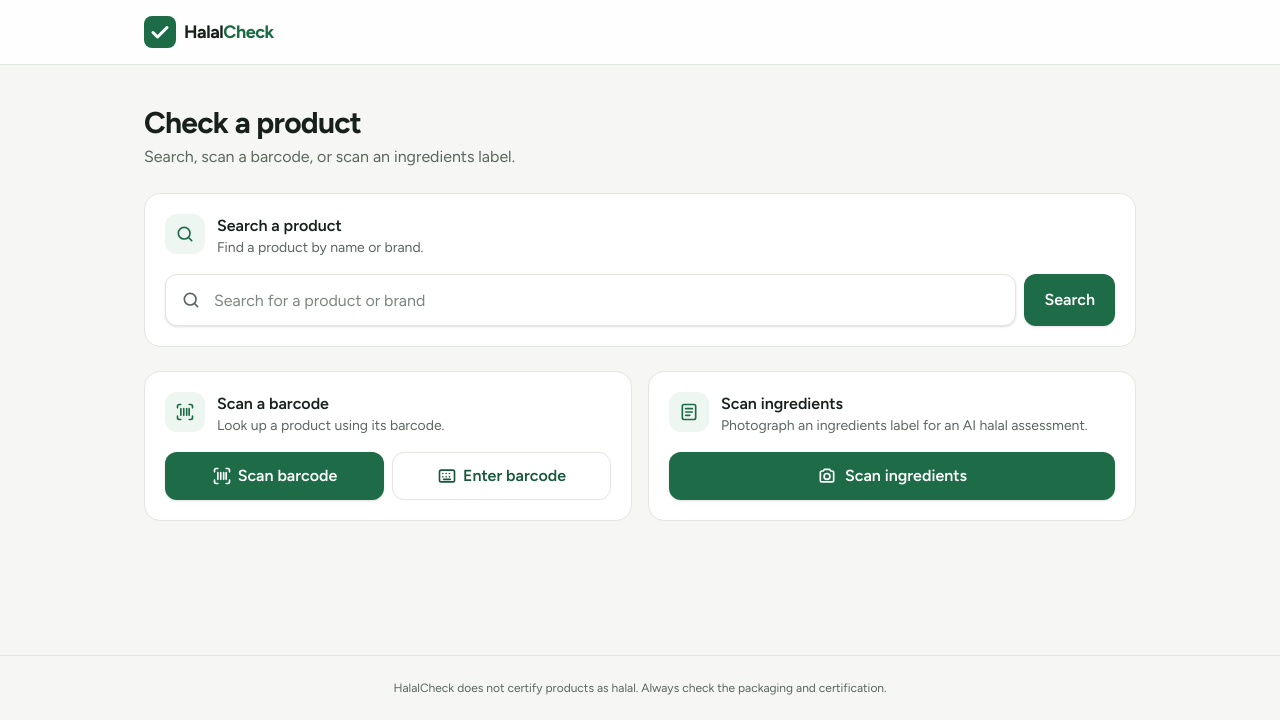
Test: product search › searches with the button and validates very short queries
The width and height of the screenshot is (1280, 720).
In the search field: (591, 300) x1=165 y1=274 x2=1016 y2=326, type "n"
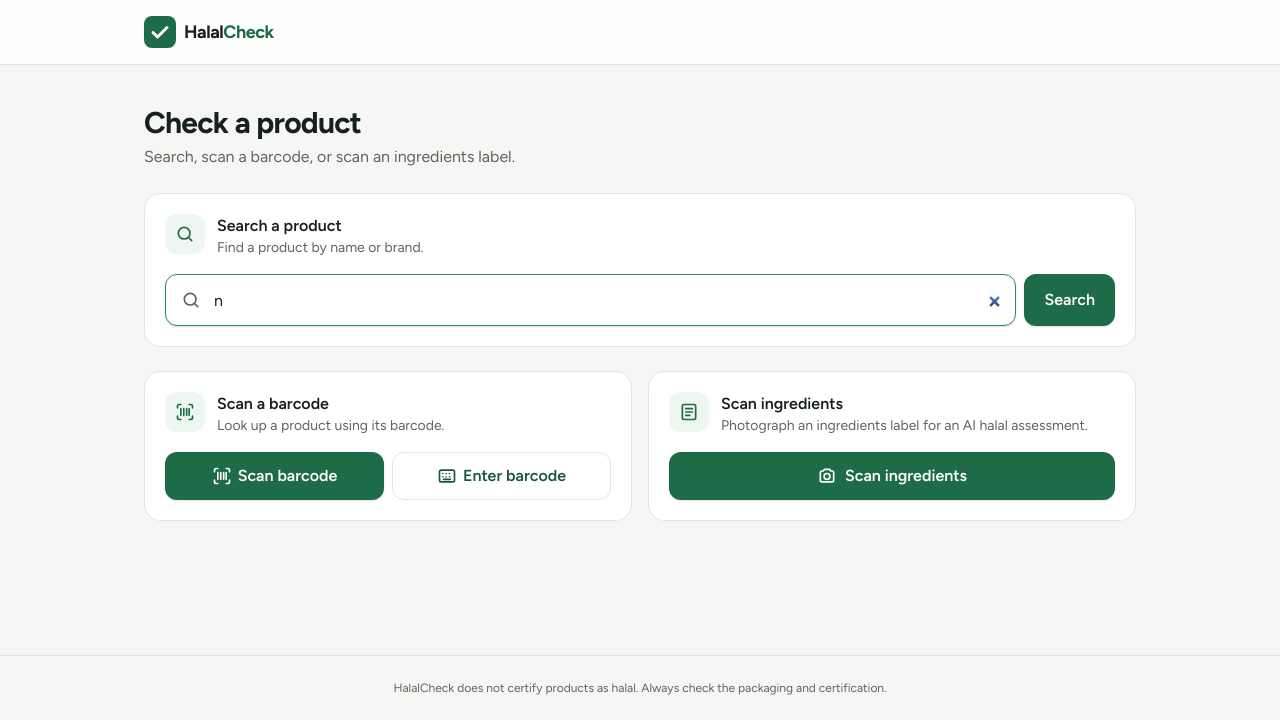
Click the button "Search": (1070, 300) x1=1024 y1=274 x2=1115 y2=326
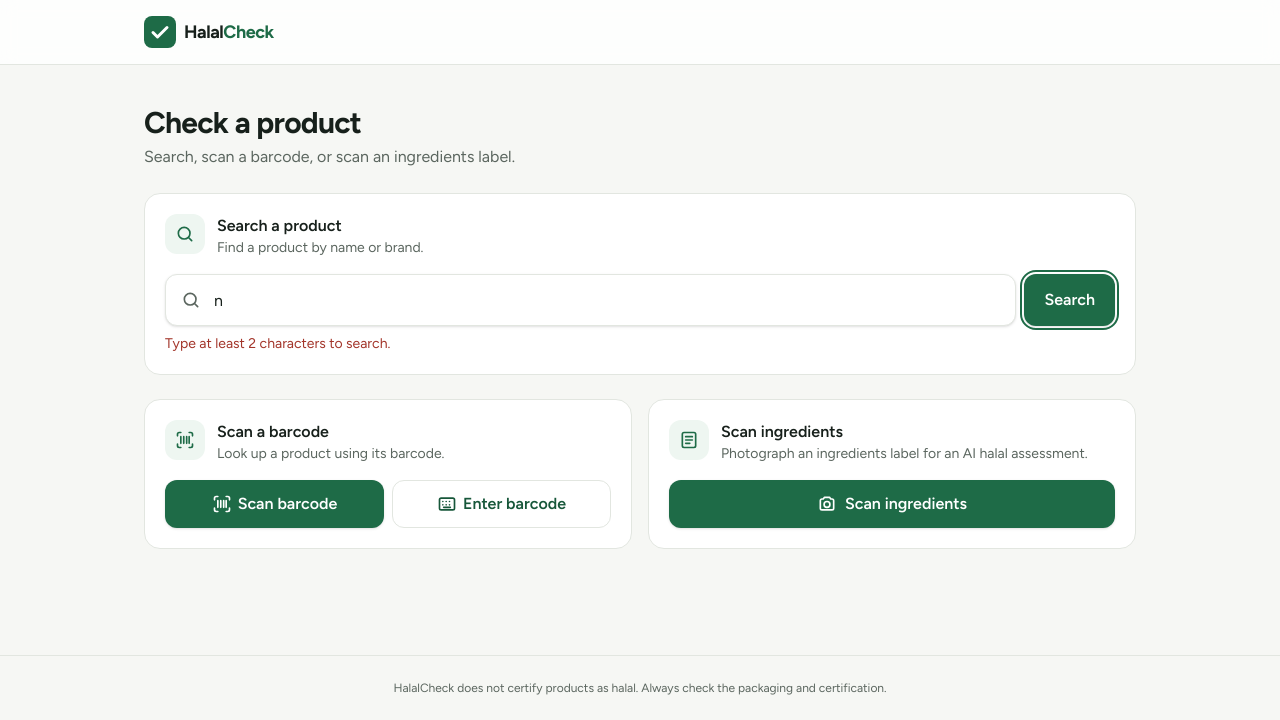
Result: the text "Type at least 2 characters to search." is shown at x1=165 y1=335 x2=390 y2=352
In the search field: (591, 300) x1=165 y1=274 x2=1016 y2=326, type "u"
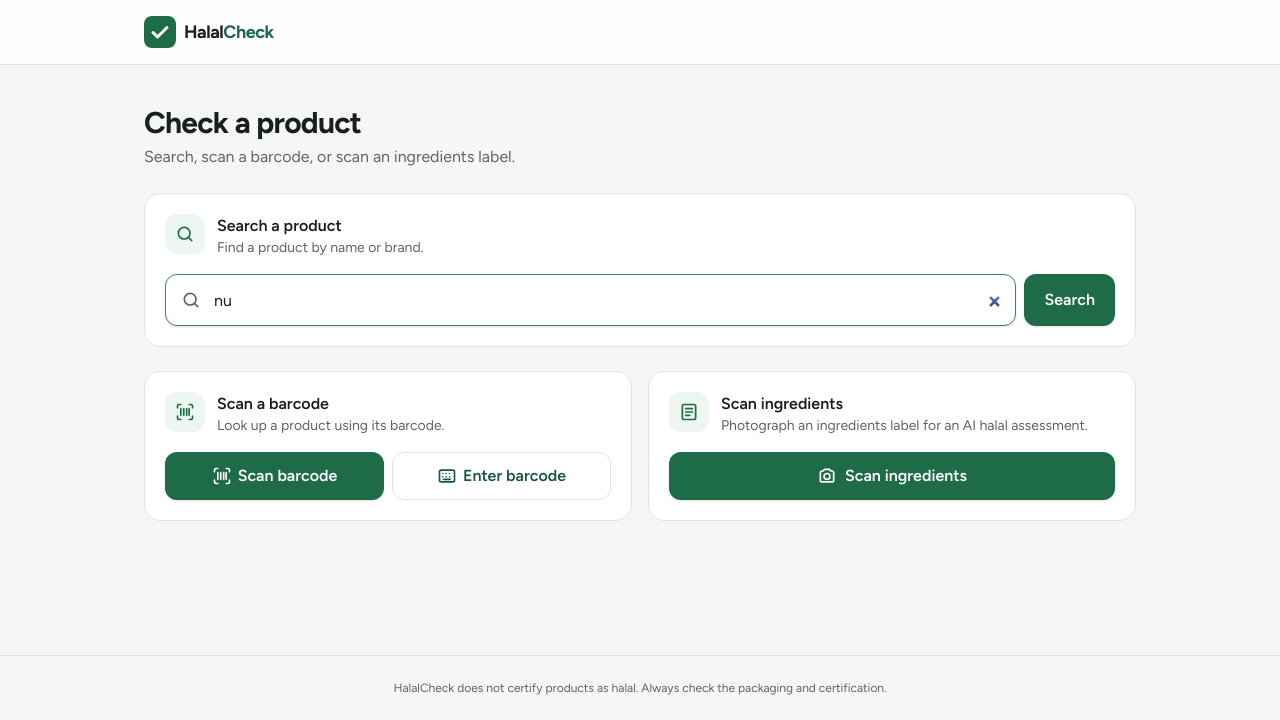
Click the button "Search": (1070, 300) x1=1024 y1=274 x2=1115 y2=326
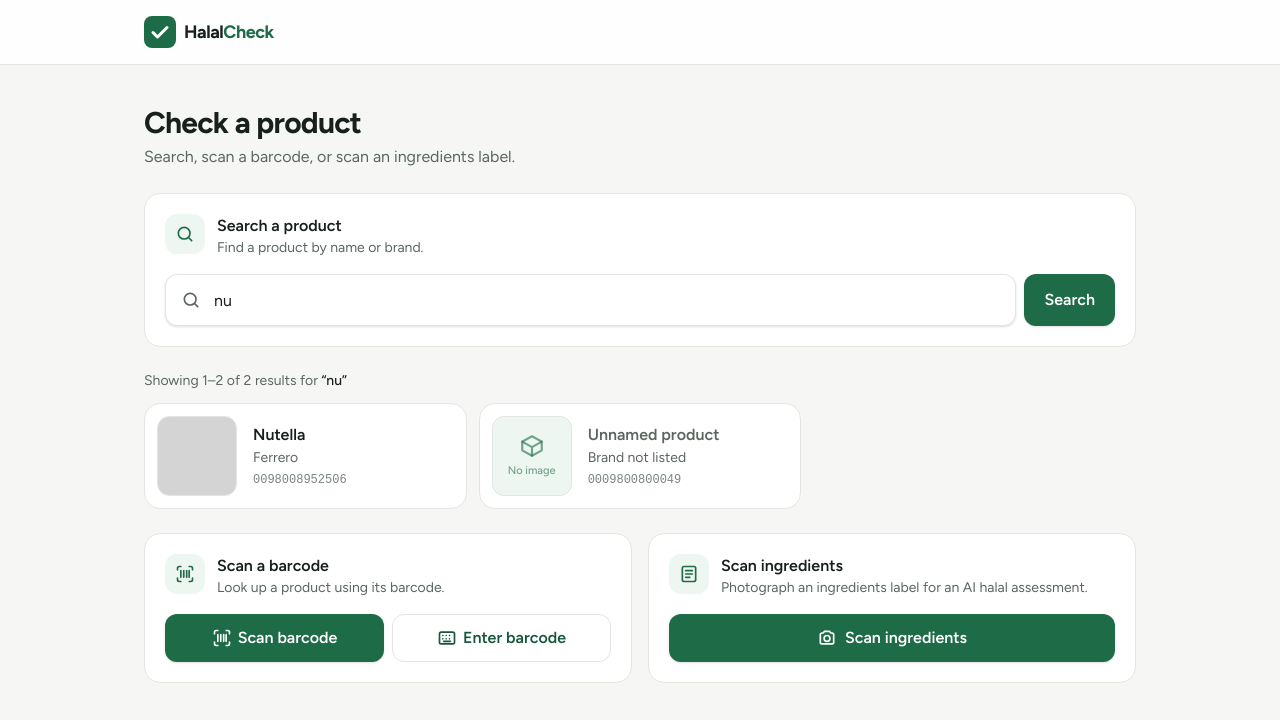
Result: the number of list items is 2 at x1=144 y1=403 x2=467 y2=509; x1=479 y1=403 x2=801 y2=509
